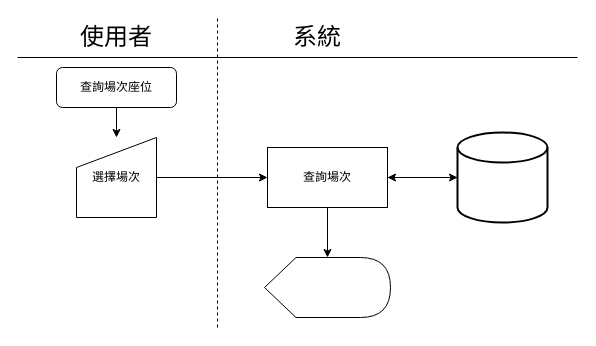
This 596x346 diagram has some shape labels left out. The centre of each missing label's shape, as x and y in pixels:
資料庫: the point at 502,177
顯示該場次空位: the point at 327,287
